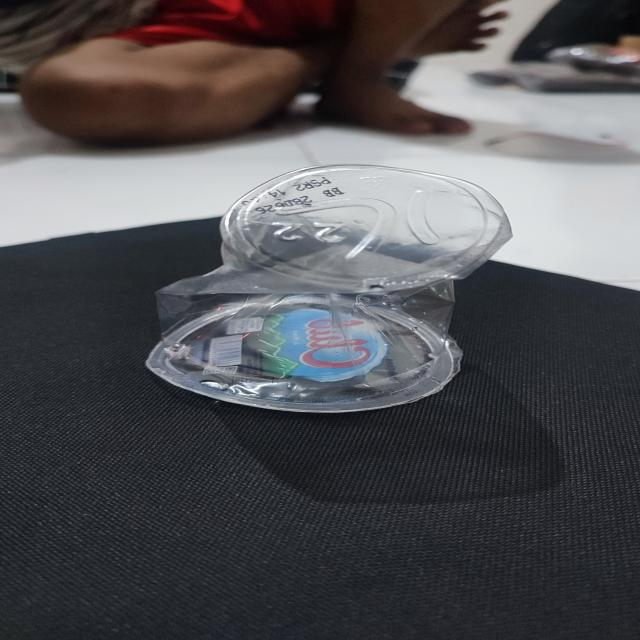air-gelas-rusak: (132, 158, 513, 411)
